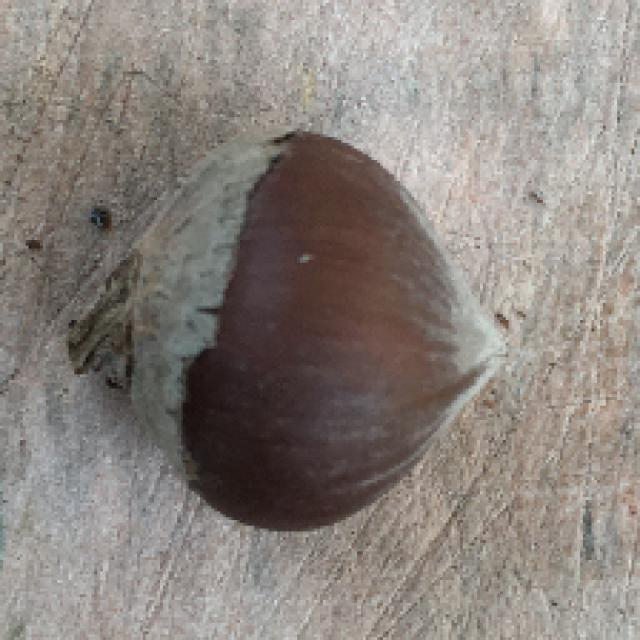damagedHazelnut: (68, 127, 511, 525)
